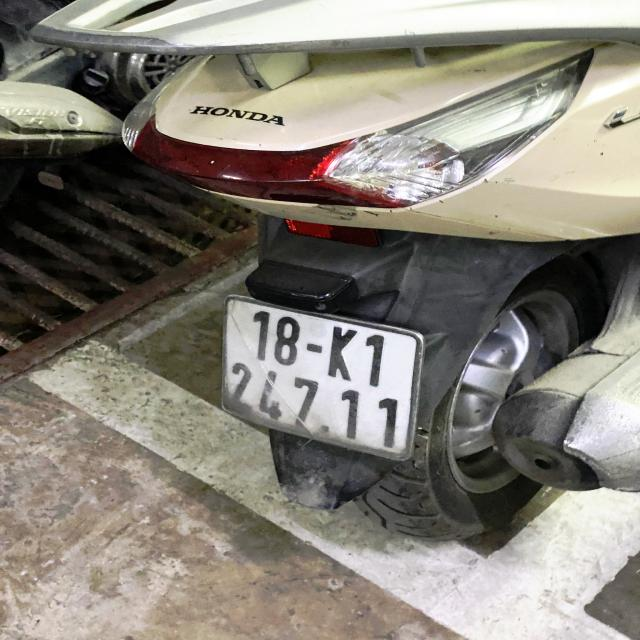license_plate: (204, 287, 437, 473)
